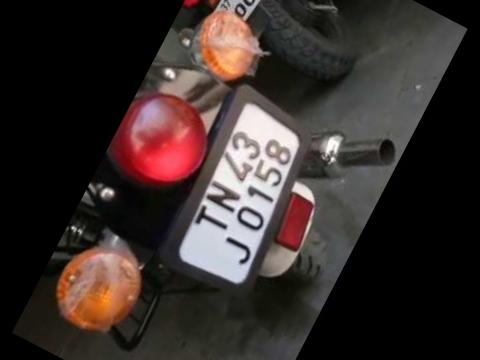plate: (143, 81, 334, 312)
